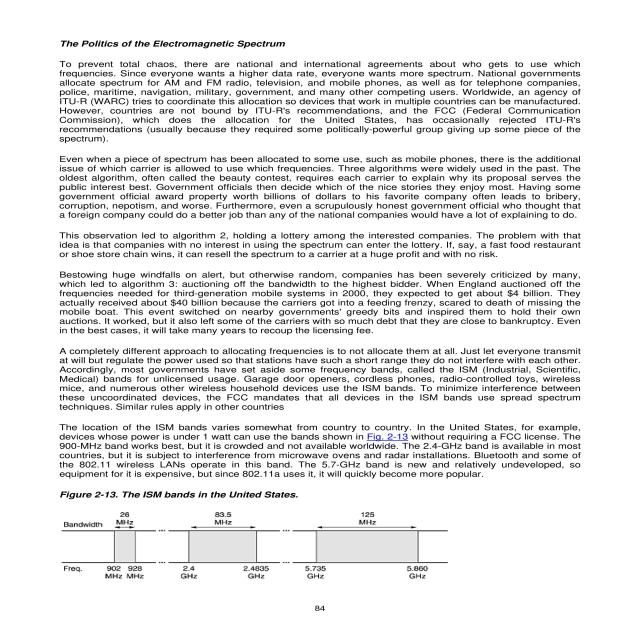diagram: (34, 484, 488, 591)
